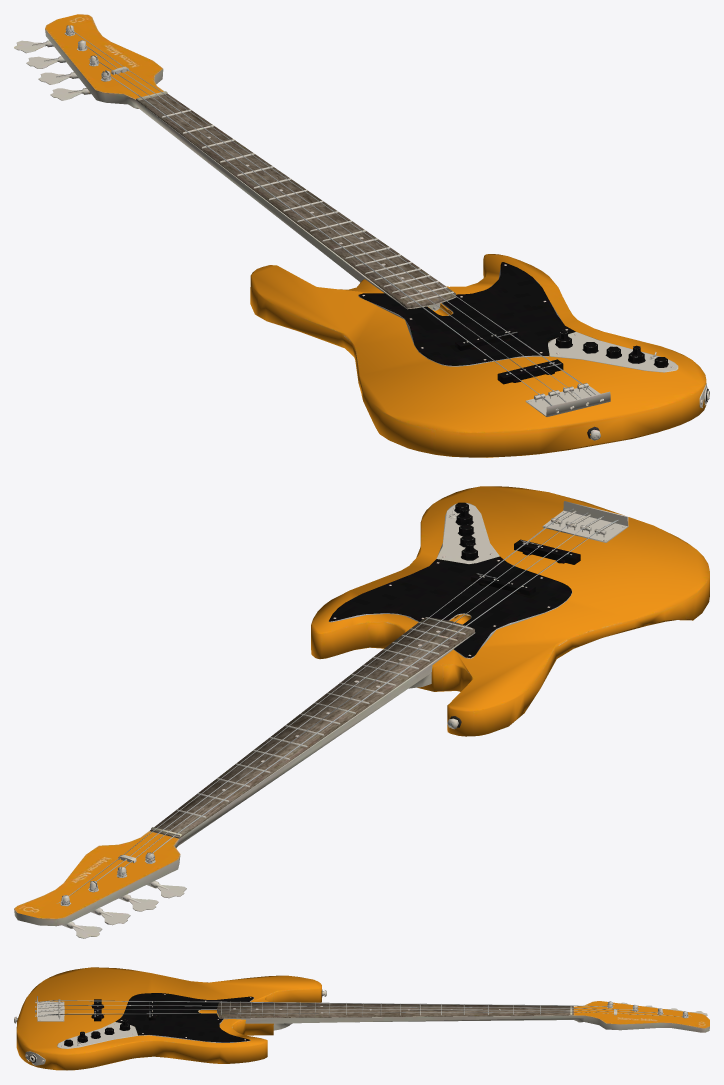
The model's file is electric_bass.glb.
3 views of the same model, one above another, from view 1: azimuth 30°, elevation 25°; view 2: azimuth 150°, elevation 25°; view 3: azimuth 270°, elevation 25° (orthographic). The views are drawn at different scales.
Visible parts, largest first — view 1: Object_4; view 2: Object_4; view 3: Object_4.
Part boxes in pixels (bbox=[...]): Object_4: bbox=[14, 14, 709, 457]; Object_4: bbox=[14, 486, 709, 938]; Object_4: bbox=[14, 967, 709, 1070].
Bounding box in the file's own units: 0.287 × 0.0418 × 0.9647.
1 material, 1 textured.
